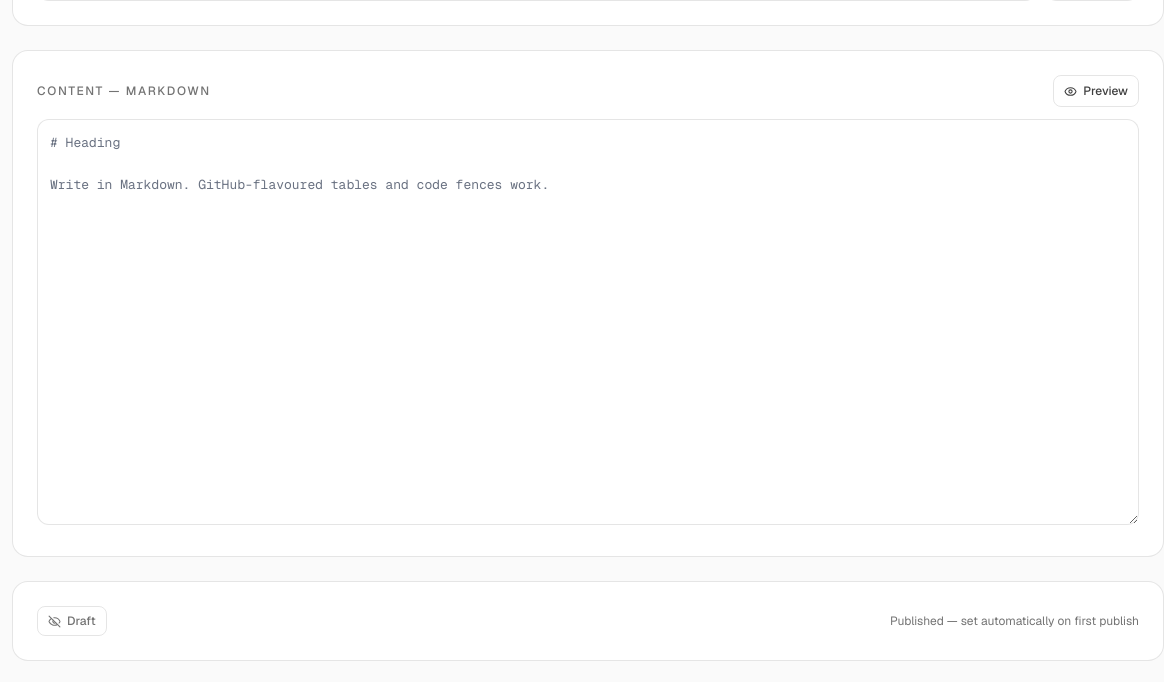
BlogForm › renders a Markdown preview without touching the stored value
(page scrolled)
Type "# Heading" into the text box labelled "Content — Markdown".
click(588, 322); type("# Heading")  # box top-left (37, 119), bottom-right (1139, 525)
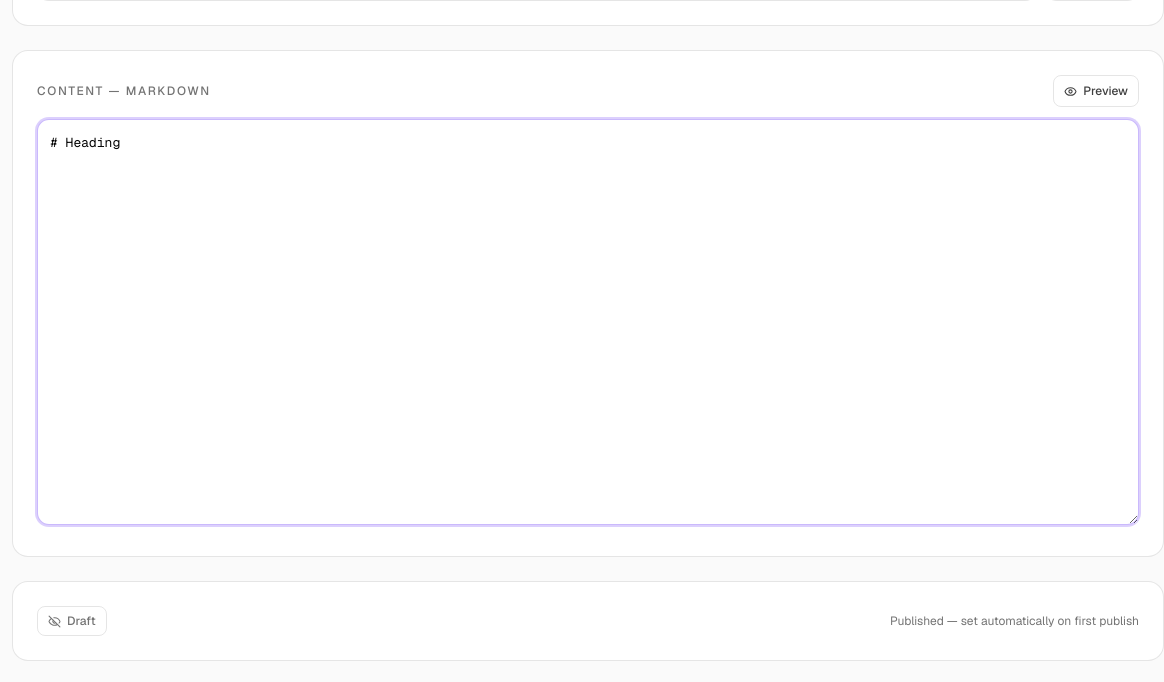
Click the button "Preview".
click(1096, 91)  # box top-left (1053, 75), bottom-right (1139, 107)
(page scrolled)
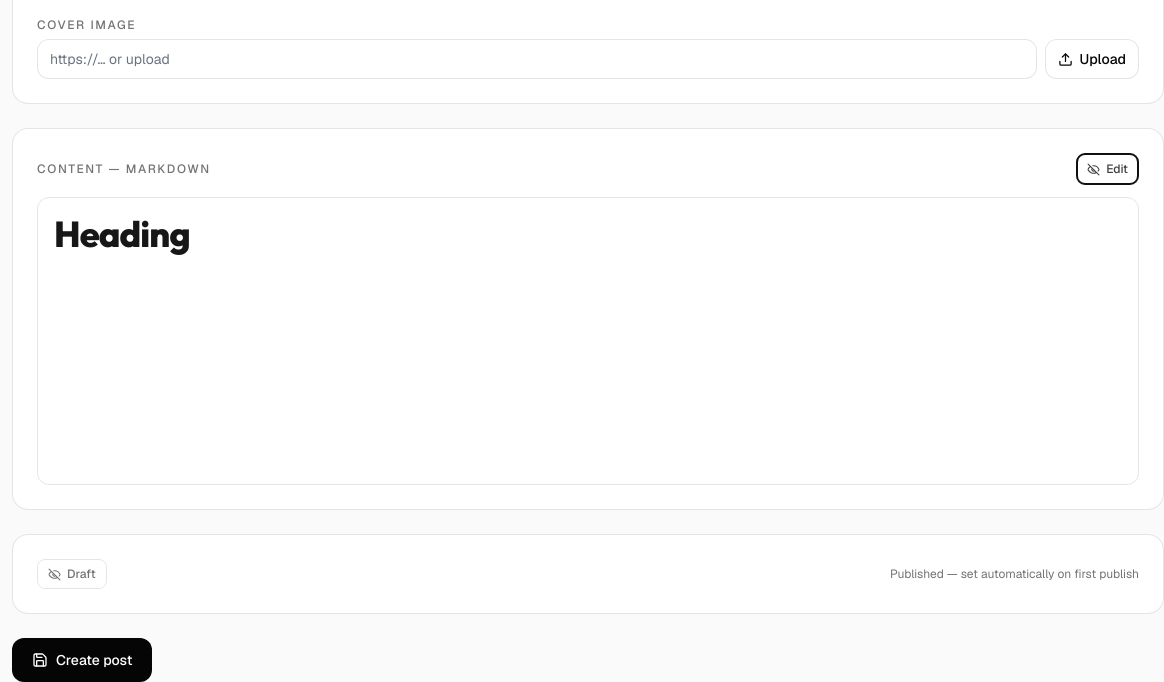
Expected: the heading "Heading" is shown, top-left (54, 211), bottom-right (190, 256)
Click the button "Edit".
click(1108, 169)  # box top-left (1076, 153), bottom-right (1139, 185)
(page scrolled)
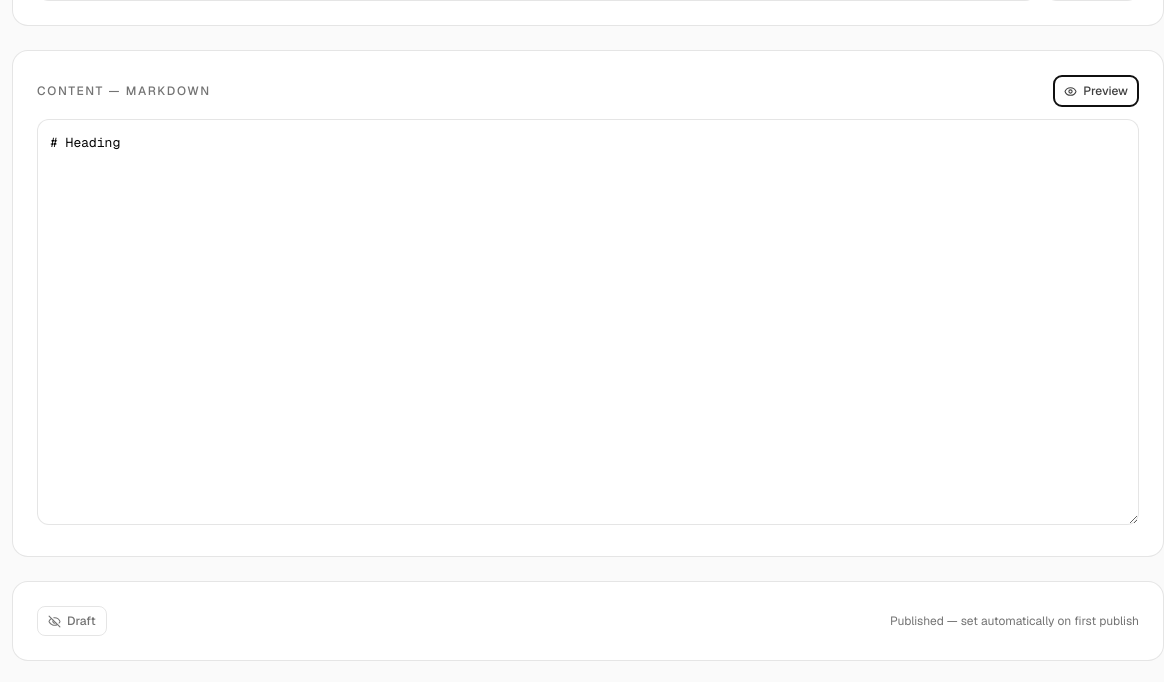
Expected: the text box labelled "Content — Markdown" holds "# Heading", top-left (37, 119), bottom-right (1139, 525)
